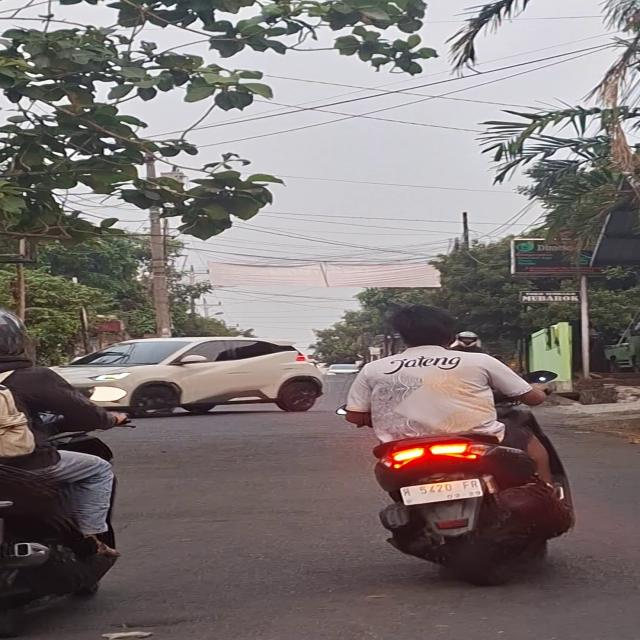WithHelmet: (0, 310, 130, 561), (447, 331, 489, 355)
WithoutHelmet: (347, 305, 582, 580)
